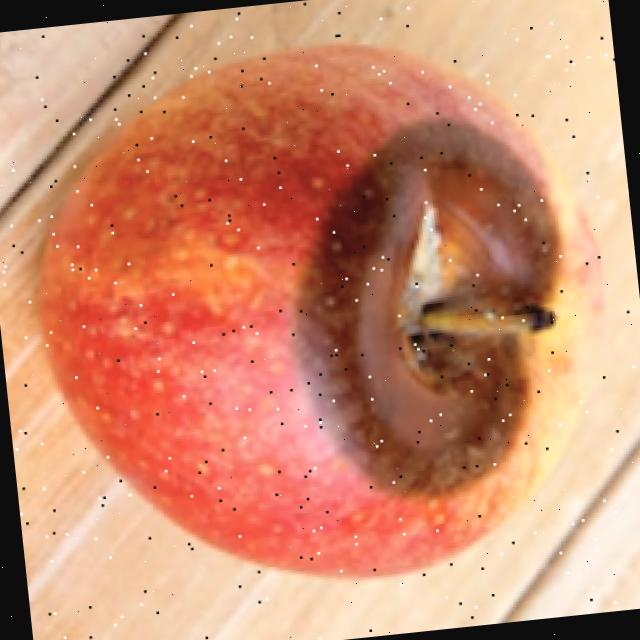Rotten: (9, 11, 635, 618)
